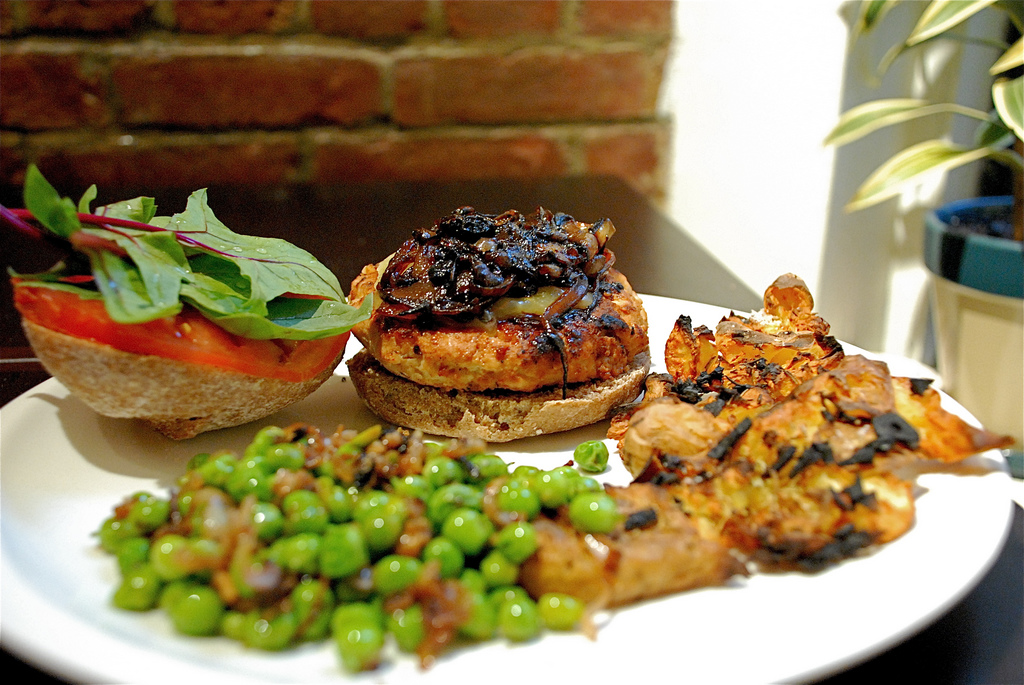boiled potatoes: (278, 490, 381, 565)
slice of bread: (24, 334, 317, 439)
